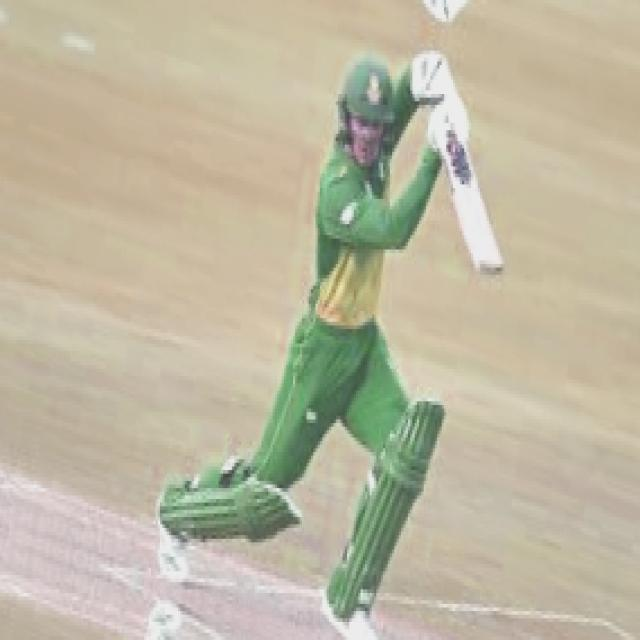bat: (441, 125, 510, 277)
toe: (475, 263, 506, 275)
